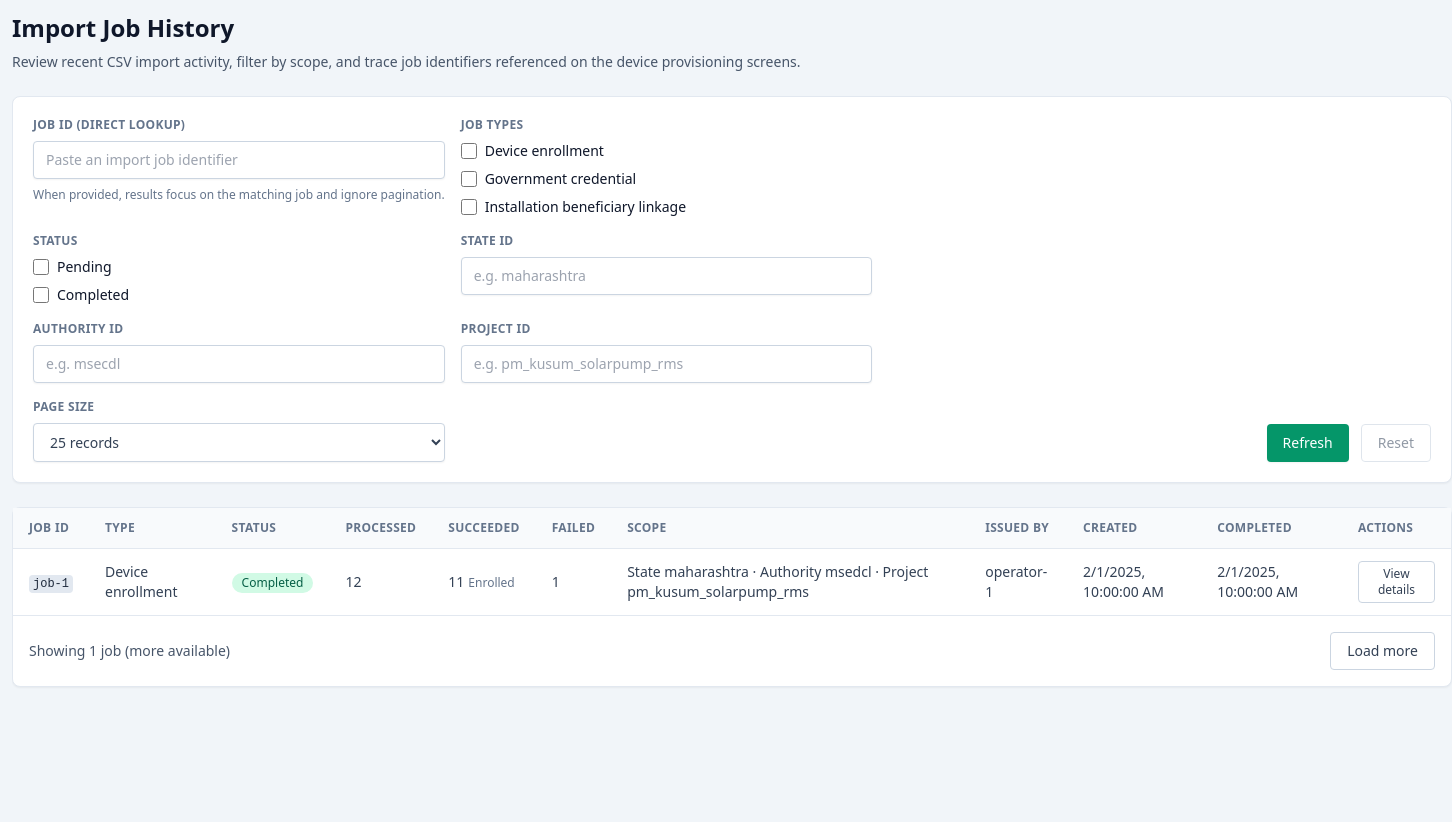
Test: DeviceImportJobsPage › renders import jobs from the API and loads additional pages
This screenshot has width=1452, height=822.
Expected: the text "job-1" is shown, [29, 575, 73, 593]
Expected: the text "Device enrollment" is shown, [89, 548, 216, 615]
What coordinates should you click on to do the following:
click the button "Load more"
I would click on:
 (1383, 651)
Its box is [1330, 632, 1435, 670].
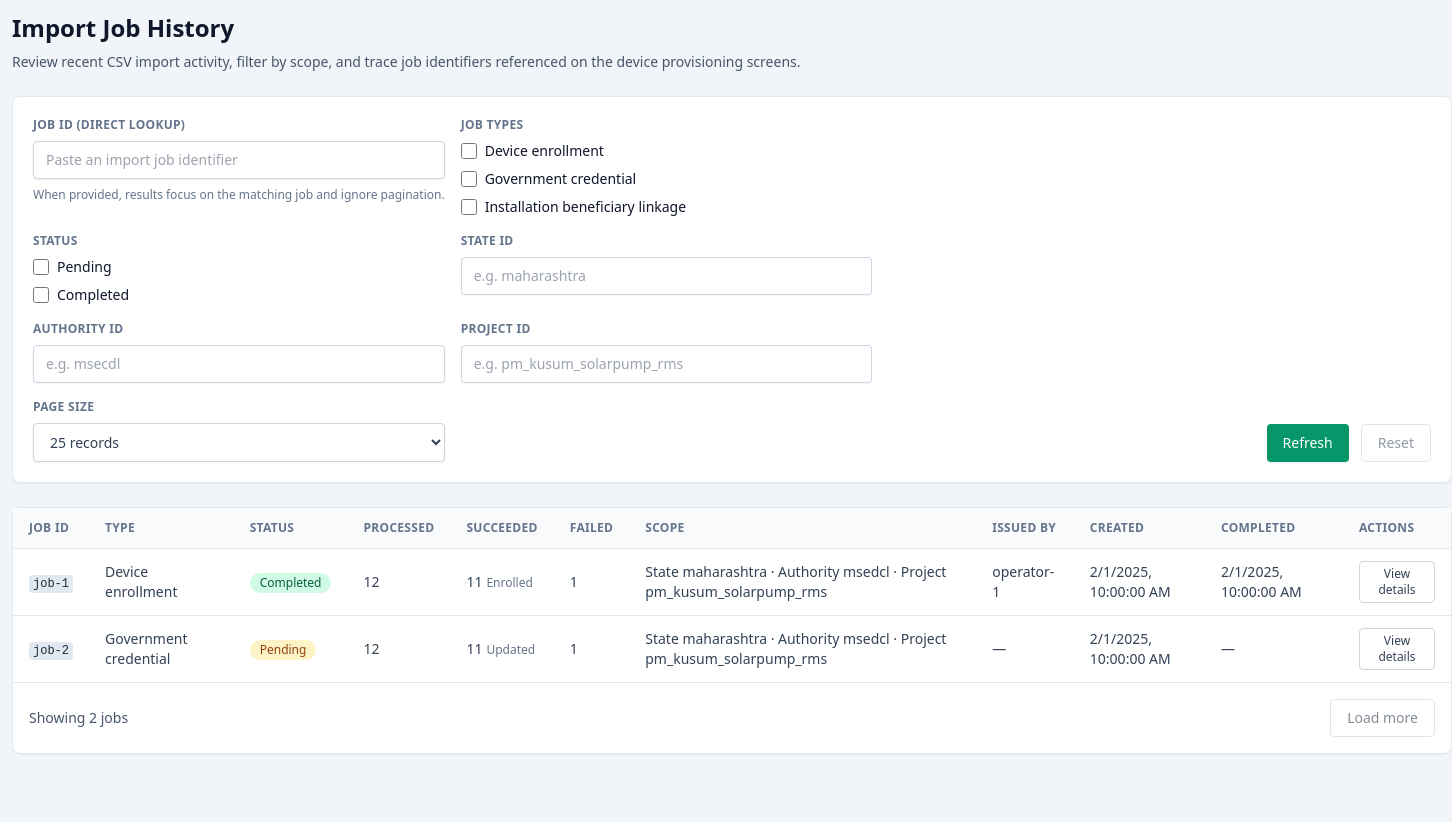
Result: the text "job-2" is shown at [29, 642, 73, 660]
Result: the text "Government credential" is shown at [89, 616, 234, 682]
